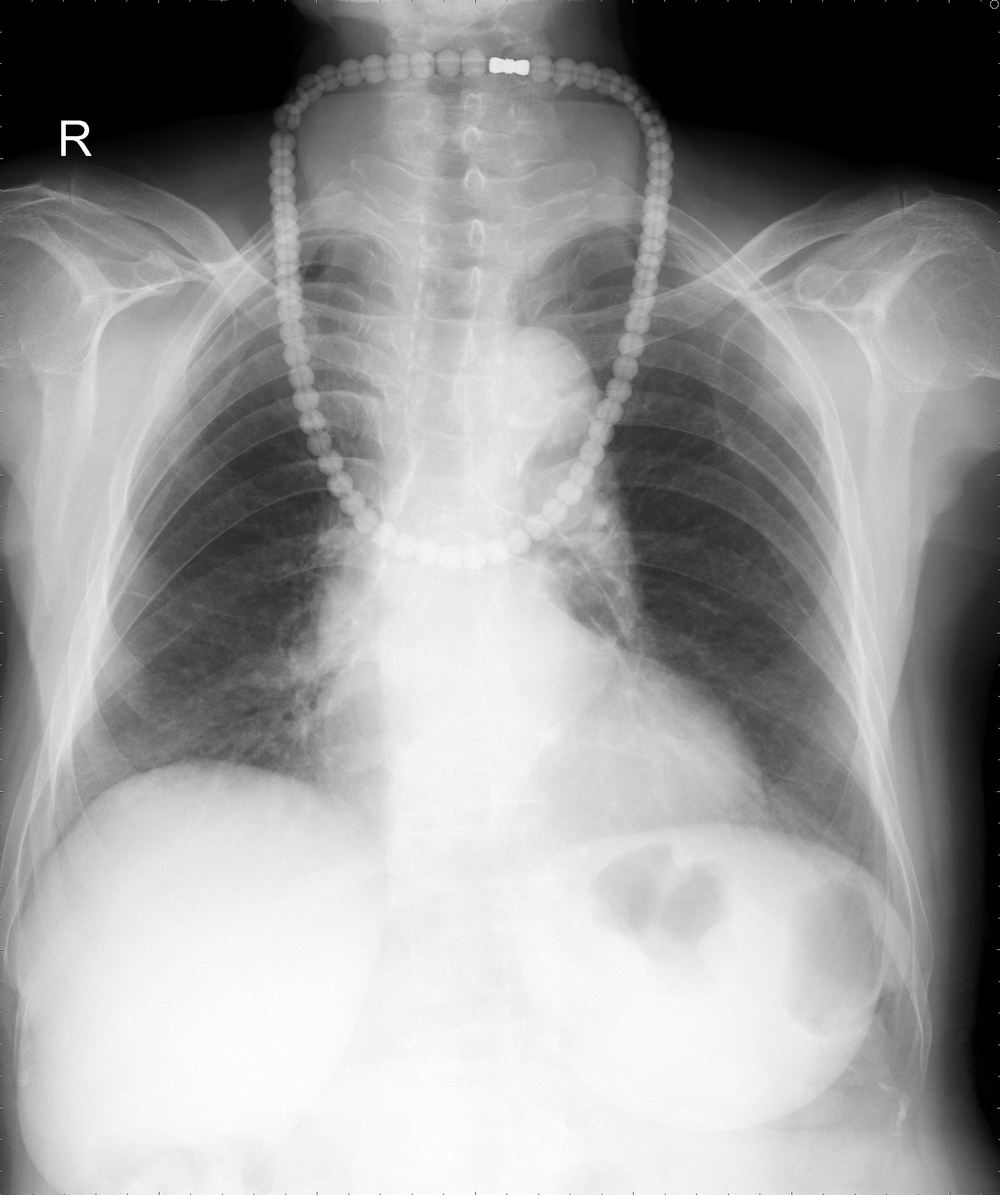Aortic enlargement: (464, 326, 605, 458)
Cardiomegaly: (319, 697, 770, 823)
